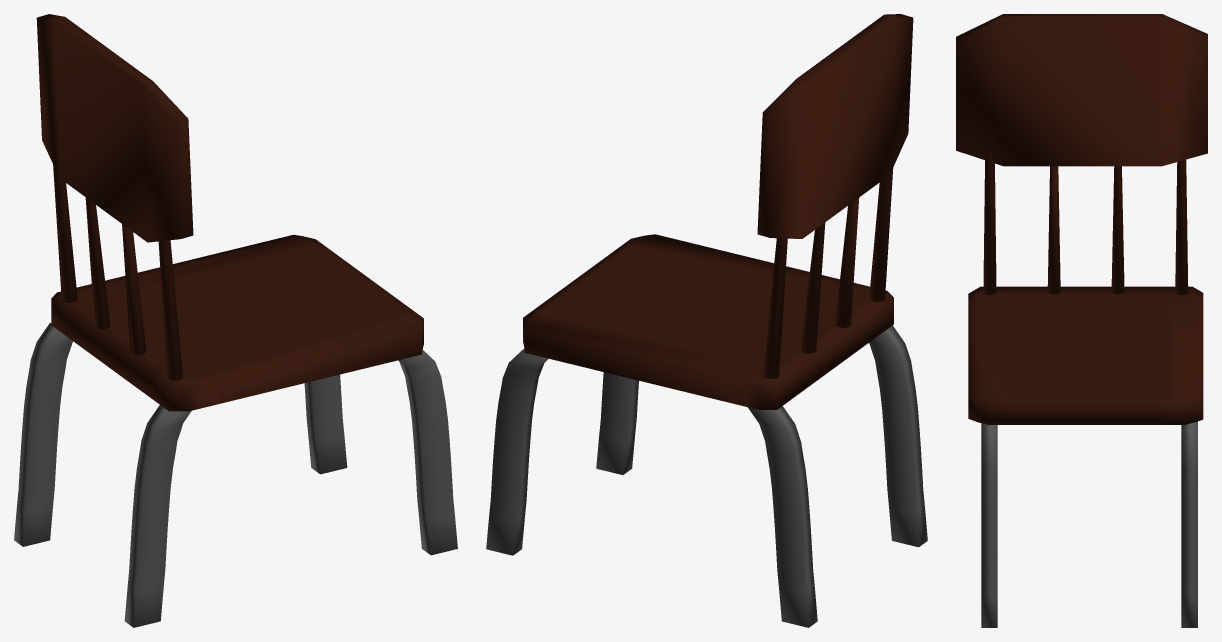
The model's file is CHair.fbx.
3 renders of one model, left to right at view 1: azimuth 30°, elevation 25°; view 2: azimuth 150°, elevation 25°; view 3: azimuth 270°, elevation 25°, orthographic. The views are drawn at different scales.
Visible parts, largest first — view 1: Cube.004; view 2: Cube.004; view 3: Cube.004.
Boxes of the visible parts, box(x1,y1,x2,y2) form: Cube.004: box(14, 14, 457, 627); Cube.004: box(486, 14, 927, 627); Cube.004: box(956, 14, 1207, 627).
Size of the model in its own units: 46.94 by 73.33 by 34.88.
